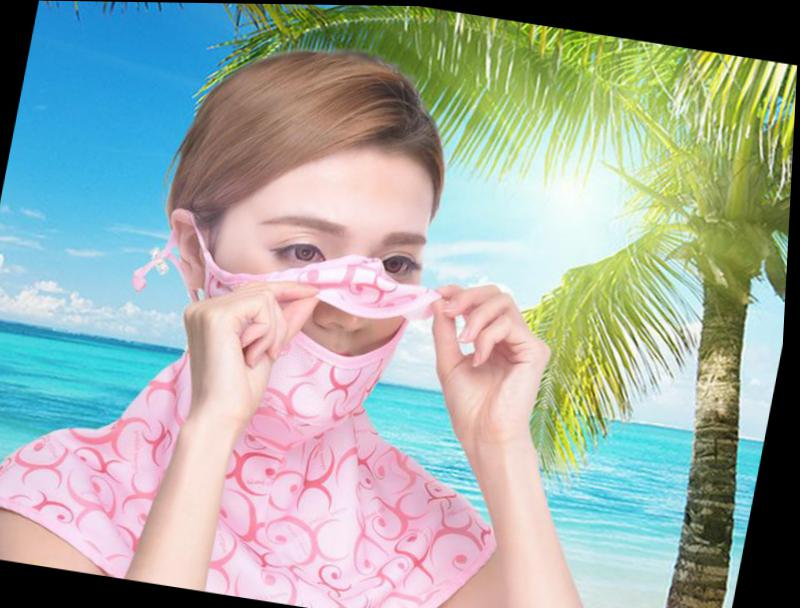WRONG: (201, 198, 442, 434)
